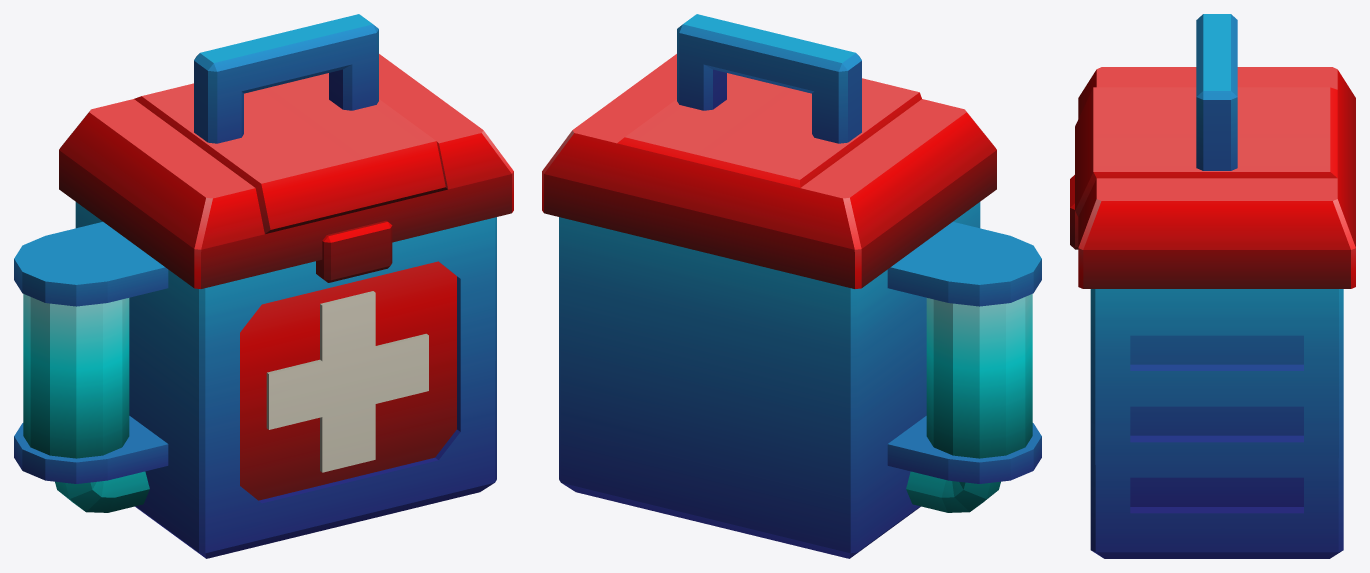
The model's file is First_Aid_Kit_2.fbx.
The picture shows the model from 3 angles, left to right: view 1: azimuth 30°, elevation 25°; view 2: azimuth 150°, elevation 25°; view 3: azimuth 270°, elevation 25°; orthographic projection.
Parts seen in each view (by area): view 1: Cube.004; view 2: Cube.004; view 3: Cube.004.
Boxes of the visible parts, <box> form: Cube.004: <box>14,14,513,558</box>; Cube.004: <box>542,14,1041,558</box>; Cube.004: <box>1070,14,1355,558</box>.
Size of the model in its own units: 53.3 by 53.53 by 31.49.
